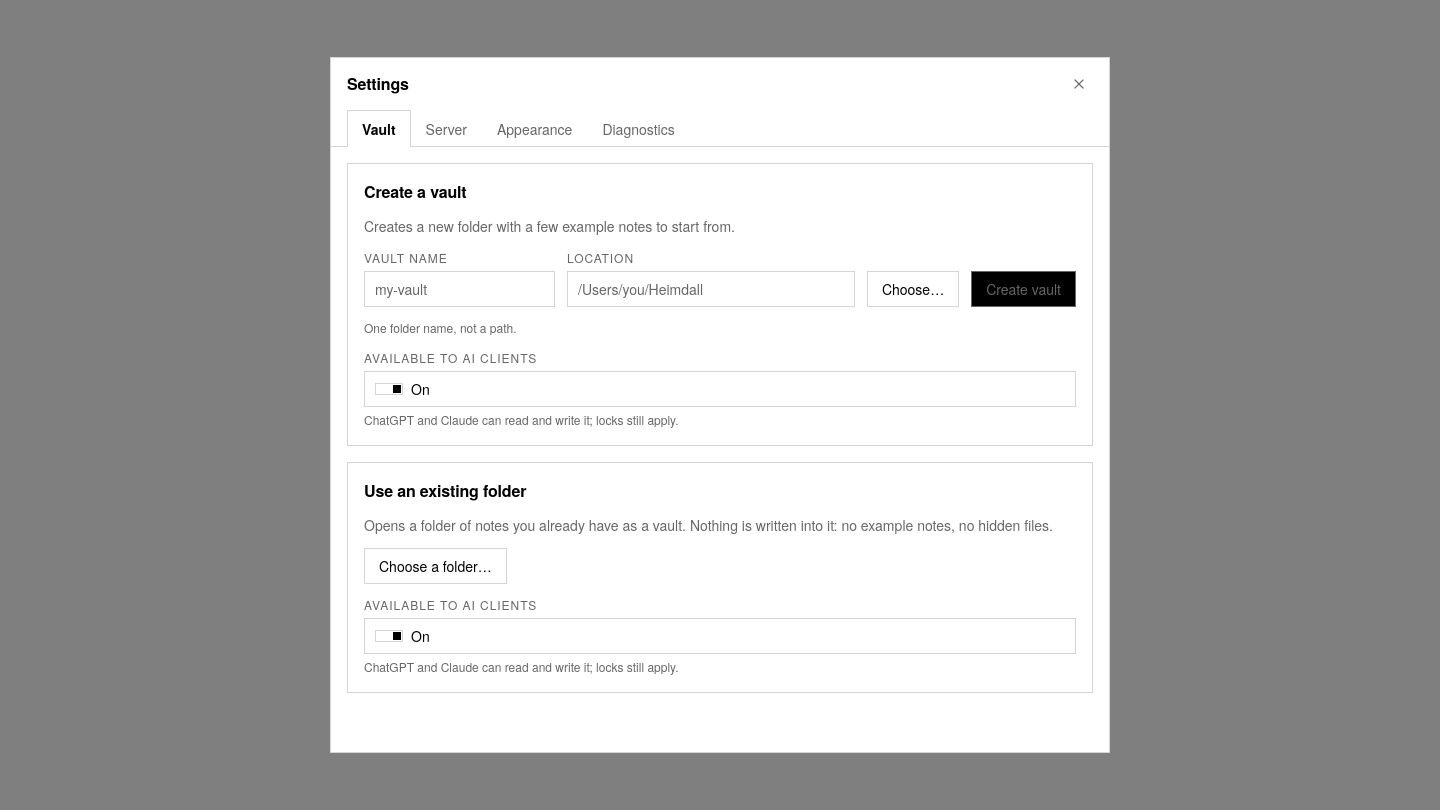
Test: Settings › fills both wells with their theme's default, as the built stylesheet spells it
This screenshot has width=1440, height=810.
Click the button "Appearance": (535, 128) [482,110,587,147]
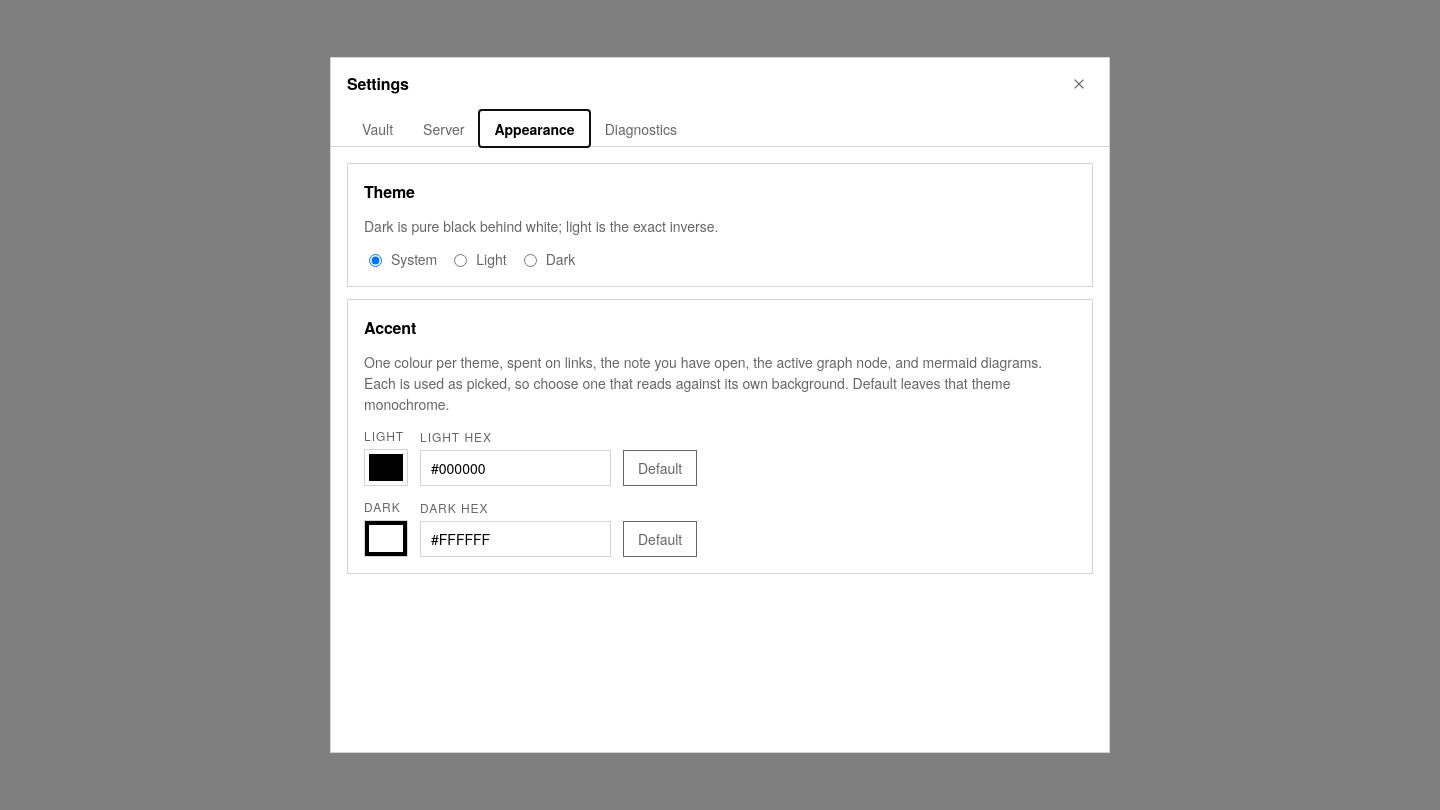
Check: the field labelled "Light hex" holds "#000000", box [420,450,611,486]
Check: the field labelled "Dark hex" holds "#FFFFFF", box [420,521,611,557]
